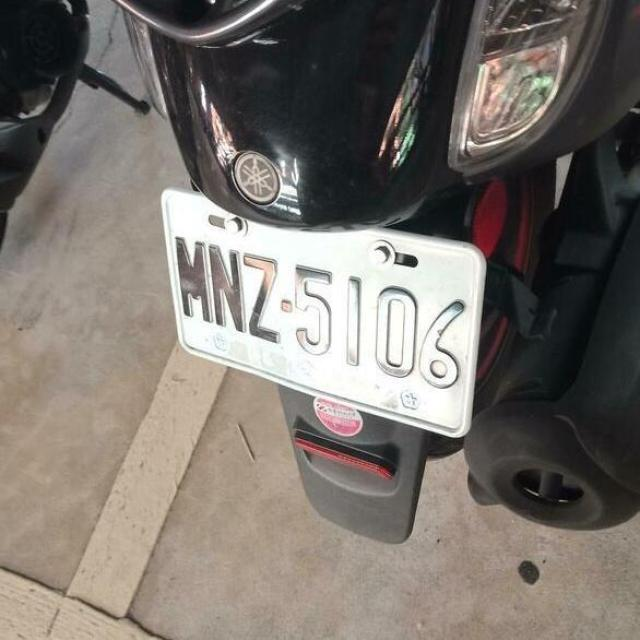W: (142, 178, 500, 445)
